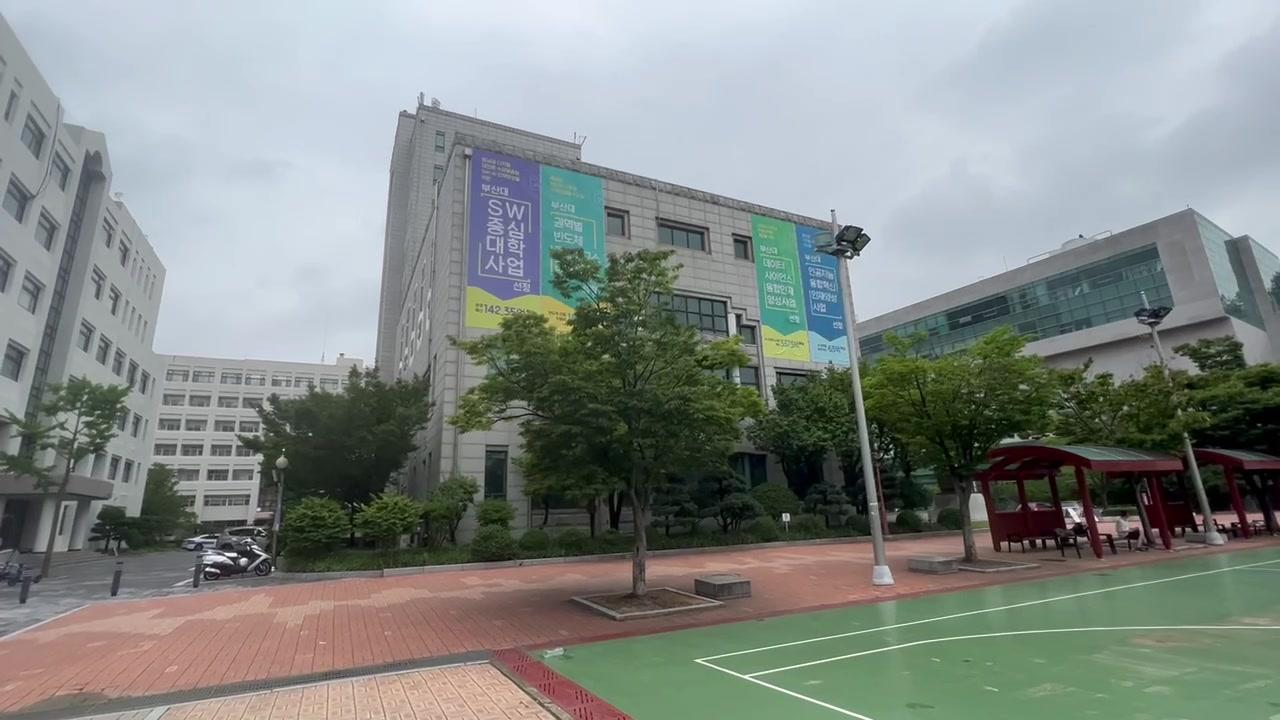building: (392, 92, 598, 323)
